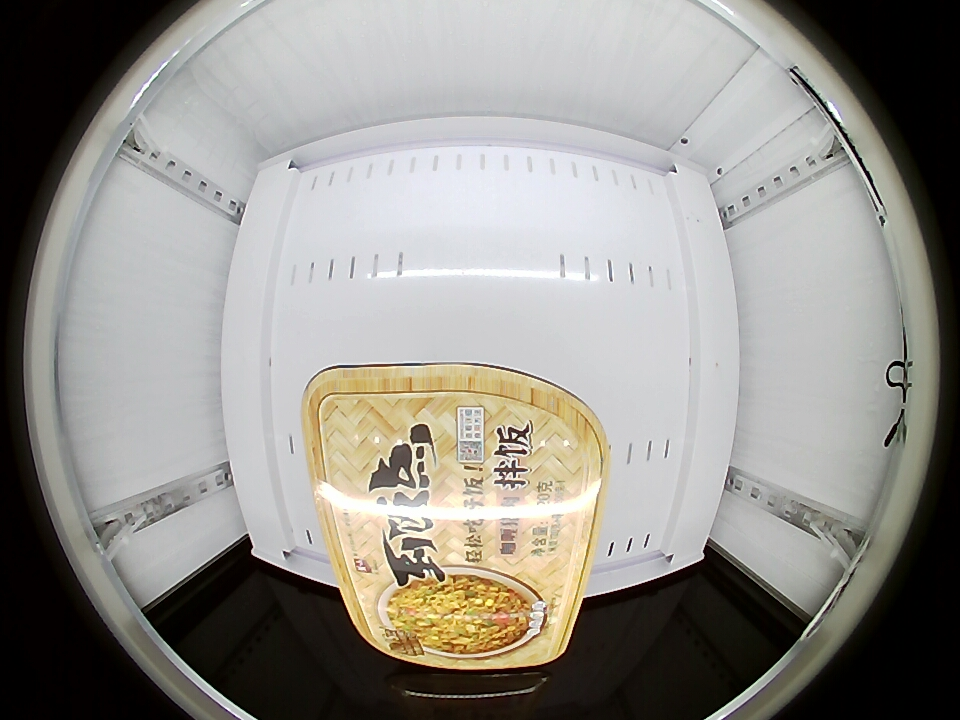daofandian3: (303, 360, 608, 670)
